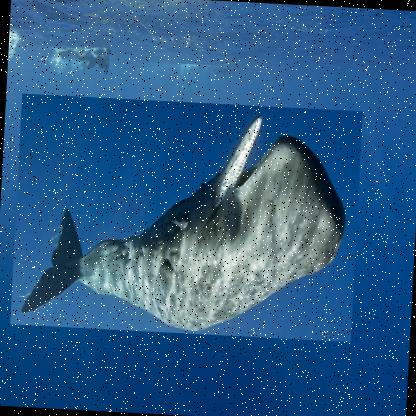sperm_whale: (9, 93, 362, 343)
